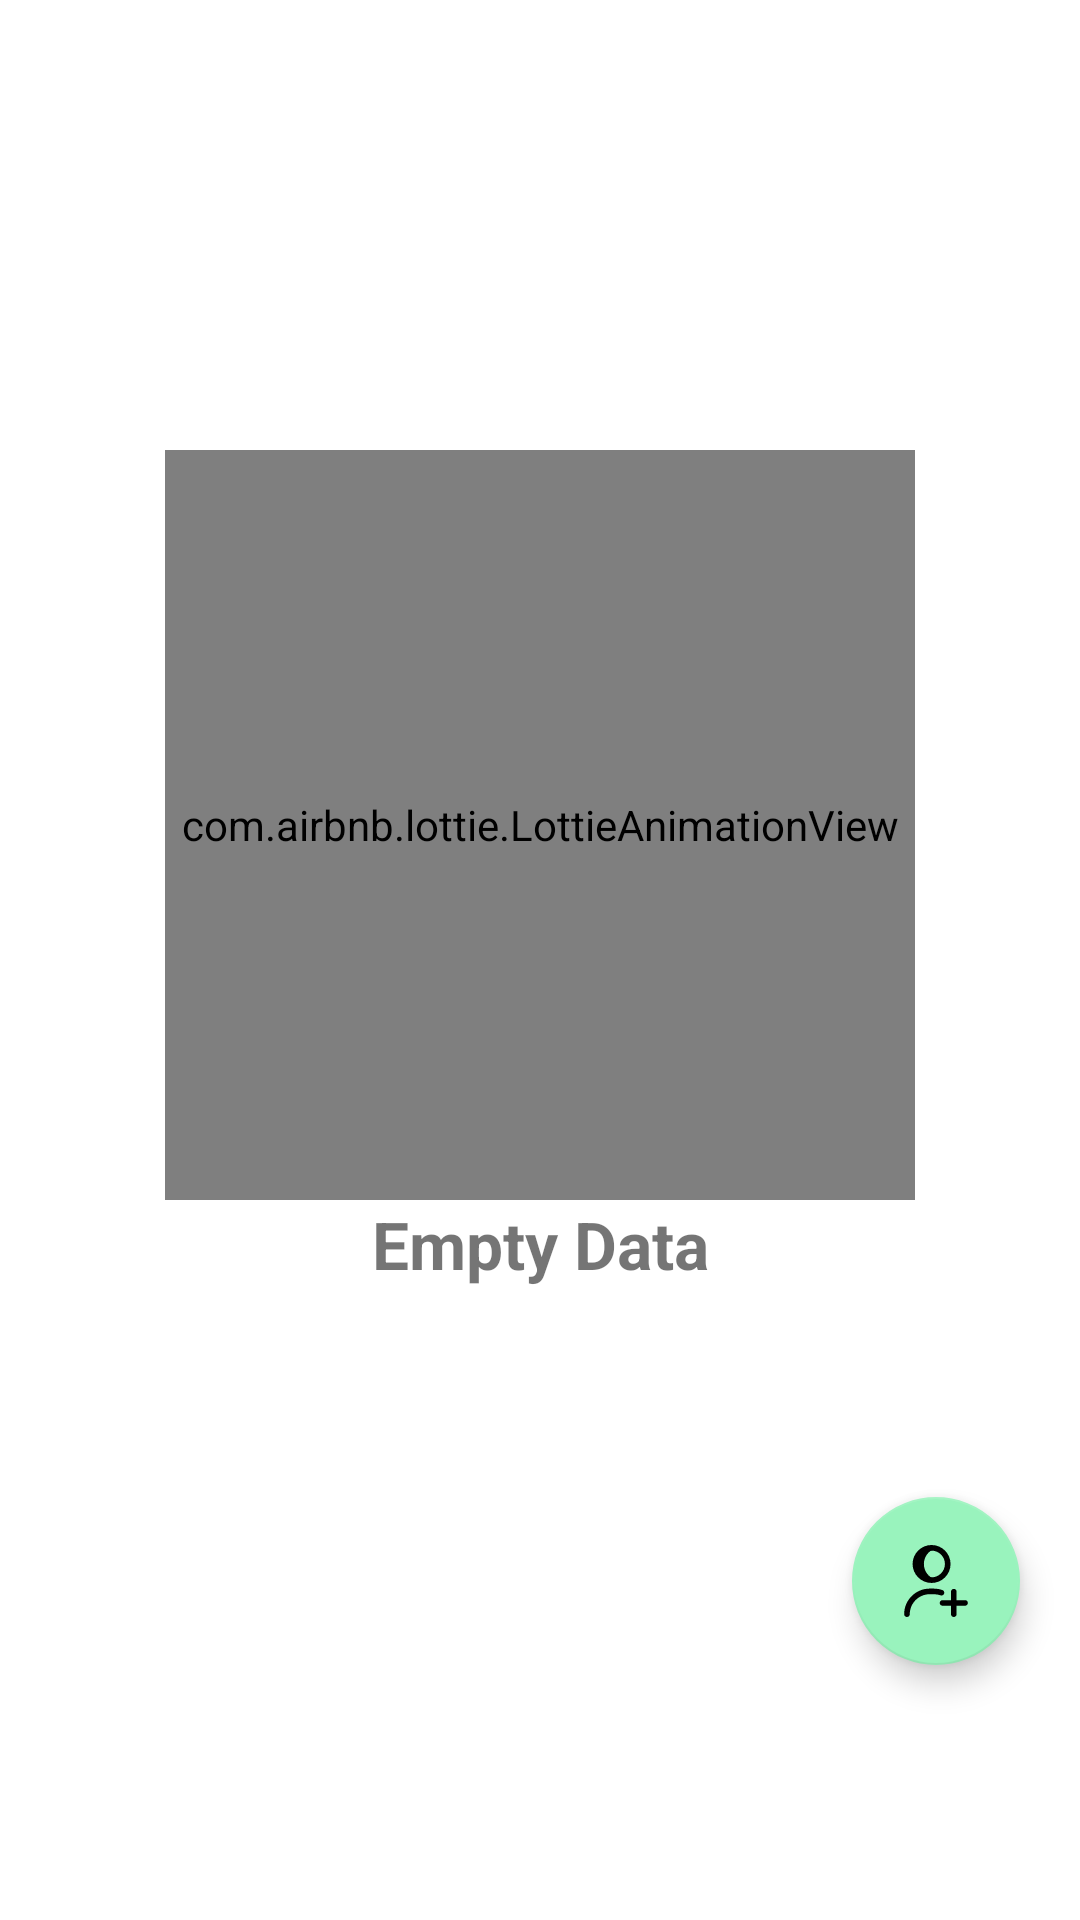

Where icons sit on this 1080 × 1920 app screen, as bbox=[x1, y1, x2, y2]:
add user: bbox=[852, 1497, 1020, 1665]
